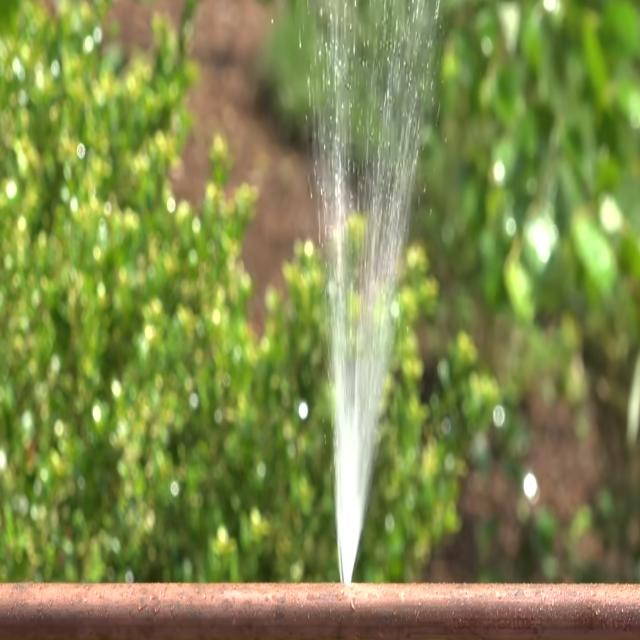leak: (314, 0, 438, 582)
